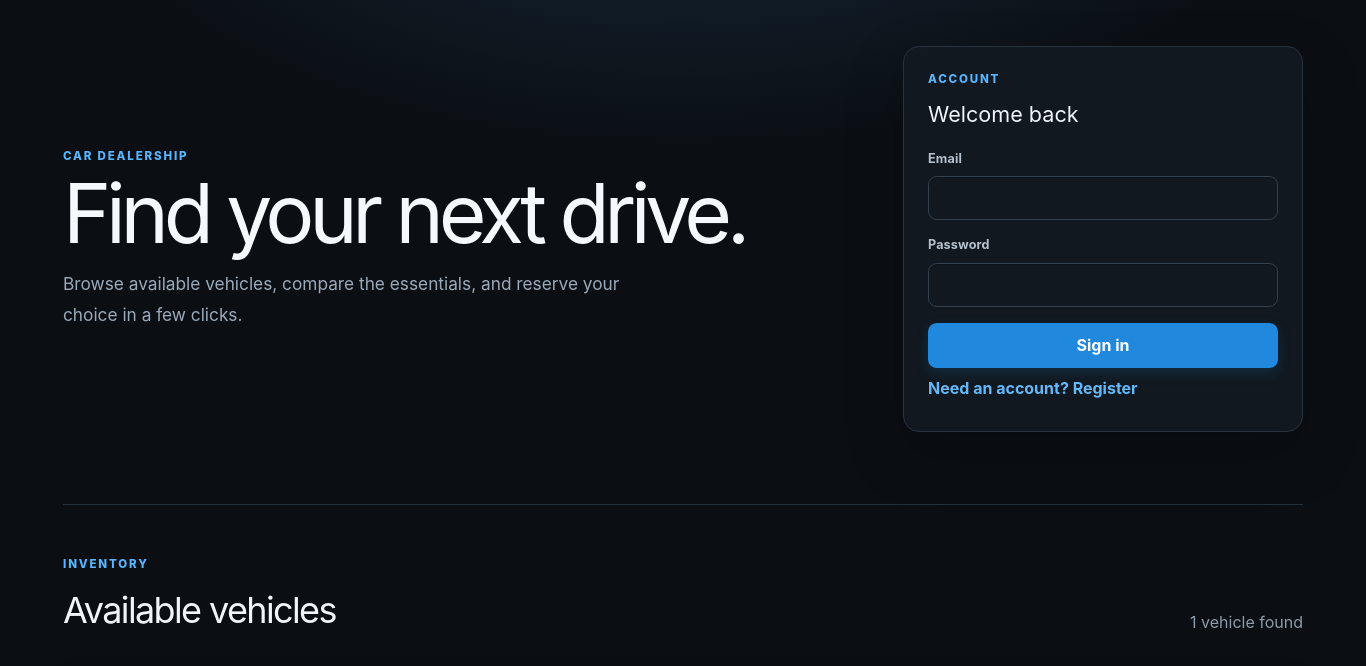
inventory application › shows the registration API error and does not sign in when registration fails
Click the button "Need an account? Register": x=1033, y=388 [928,368,1138,407]
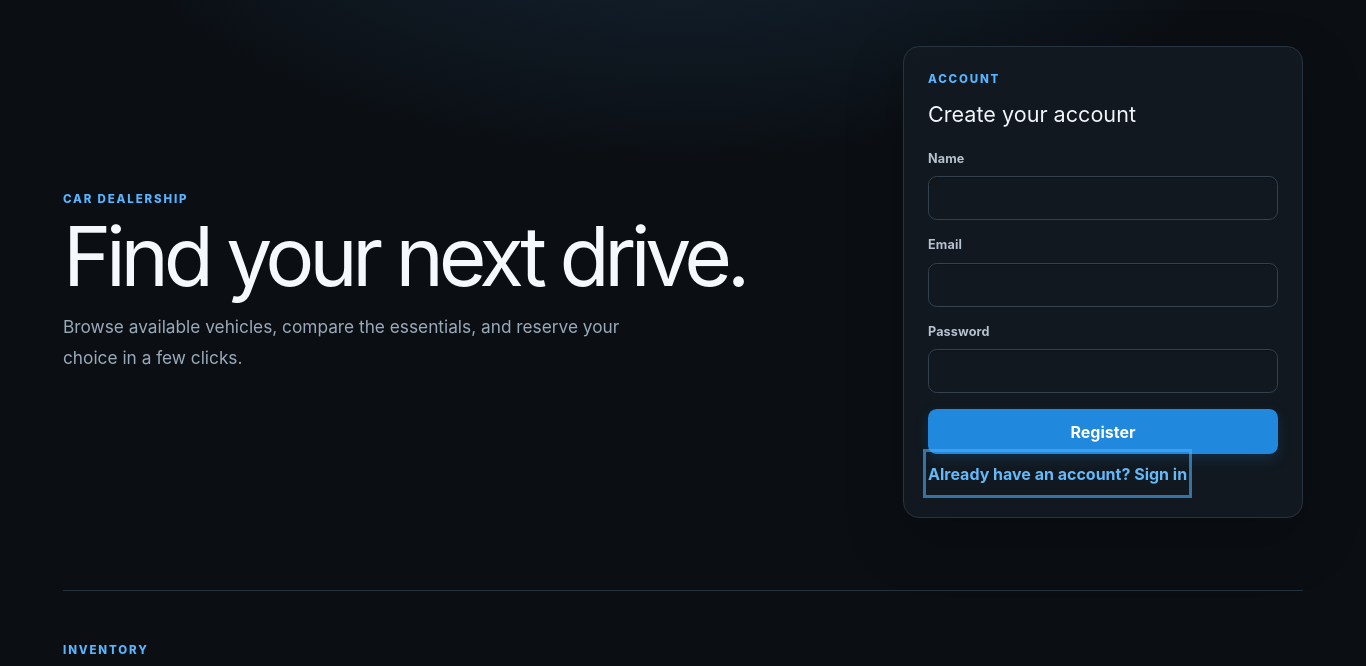
In the field labelled "Name": x=1103, y=198 [928,176,1278,220], type "Duplicate User"
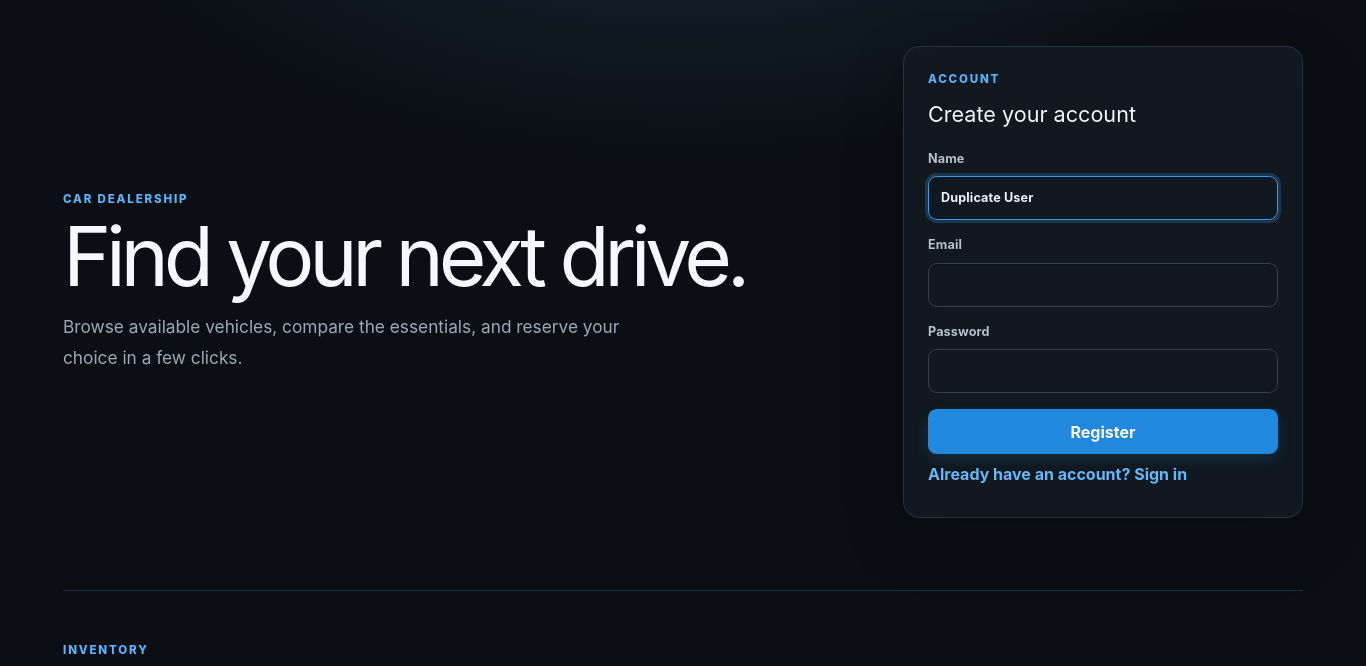
In the field labelled "Email": x=1103, y=284 [928,262,1278,306], type "duplicate@example.com"
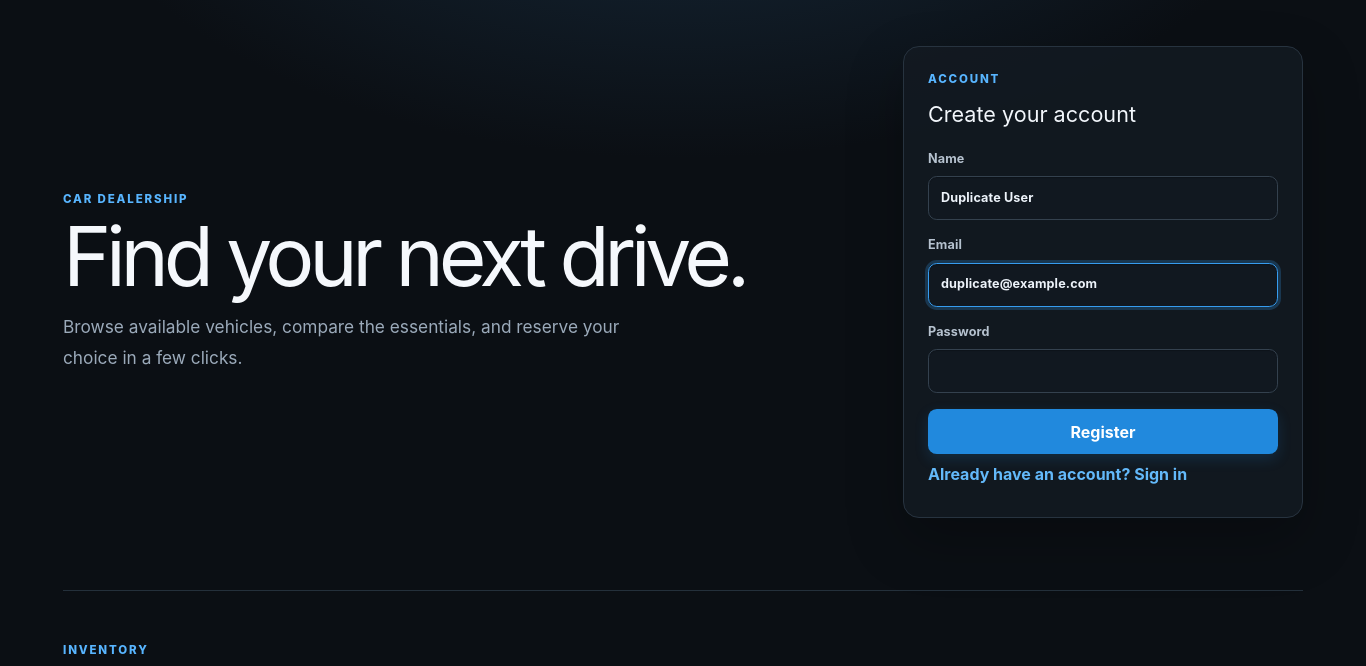
In the password field labelled "Password": x=1103, y=371 [928,349,1278,393], type "secure-password-123"
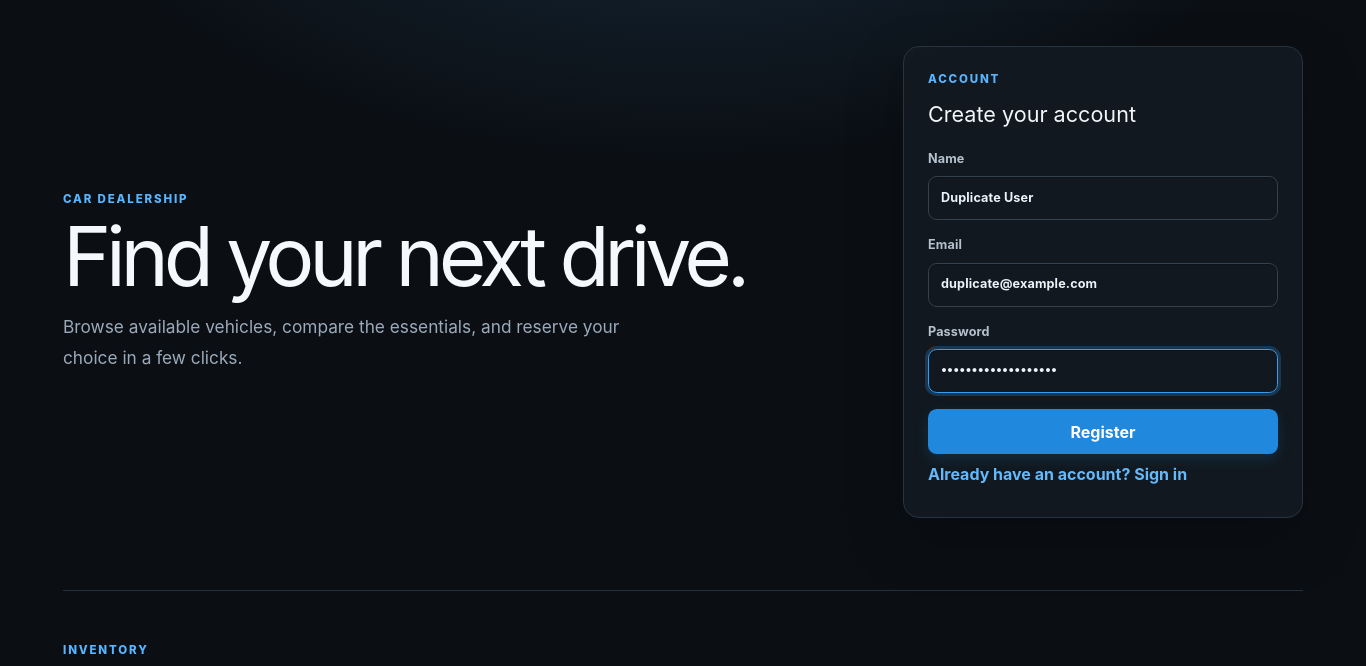
Click the button "Register": x=1103, y=432 [928,409,1278,454]
(page scrolled)
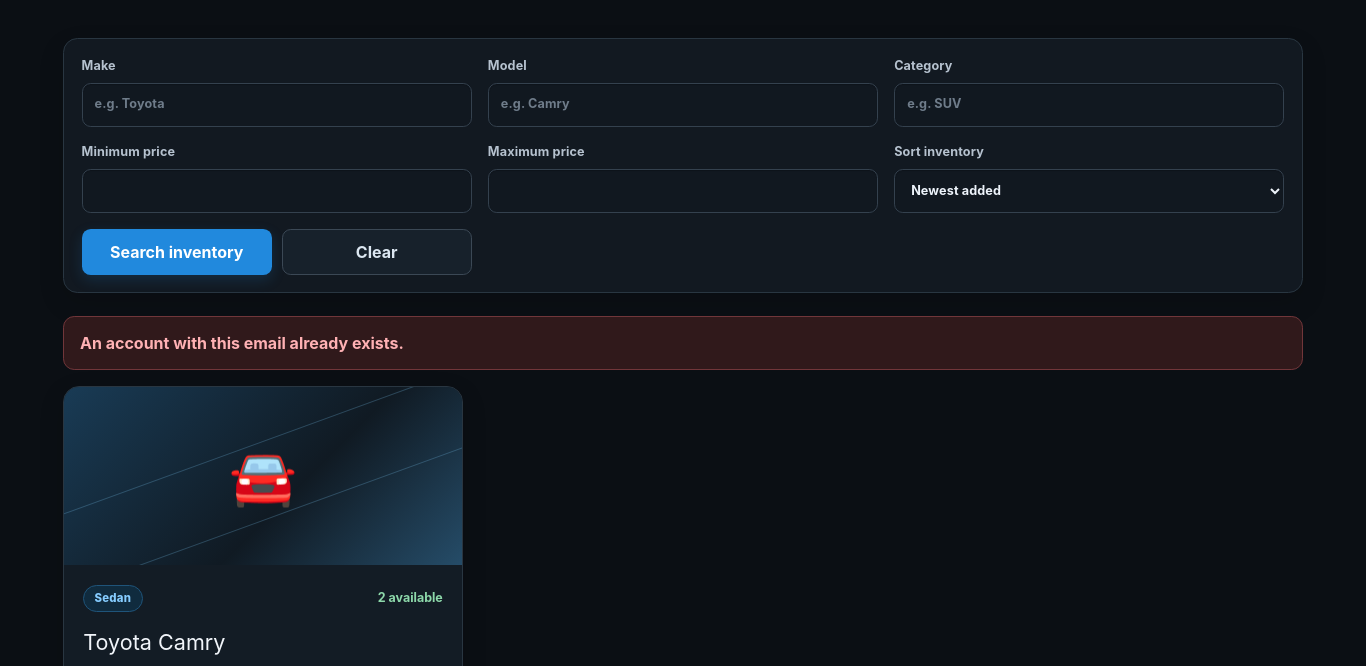
Result: the message reads "An account with this email already exists." at [80,333,404,353]
